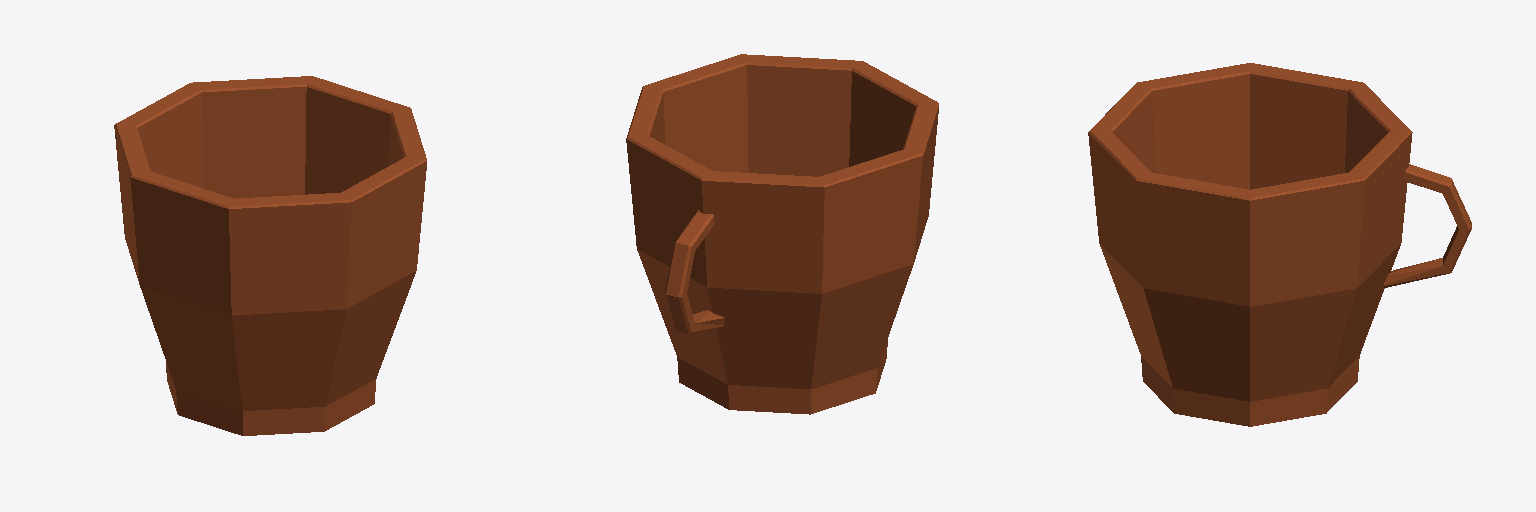
File: CoffeeCup1.obj
3 views of the same model, side by side, from view 1: azimuth 30°, elevation 25°; view 2: azimuth 150°, elevation 25°; view 3: azimuth 270°, elevation 25° (orthographic).
Parts seen in each view (by area): view 1: CoffeeCup1_Cylinder; view 2: CoffeeCup1_Cylinder; view 3: CoffeeCup1_Cylinder.
Boxes of the visible parts, x1,y1,x2,y2 form: CoffeeCup1_Cylinder: [114, 76, 426, 435]; CoffeeCup1_Cylinder: [626, 54, 938, 414]; CoffeeCup1_Cylinder: [1088, 63, 1471, 426].
Bounding box in the file's own units: 0.2565 × 0.2191 × 0.3034.